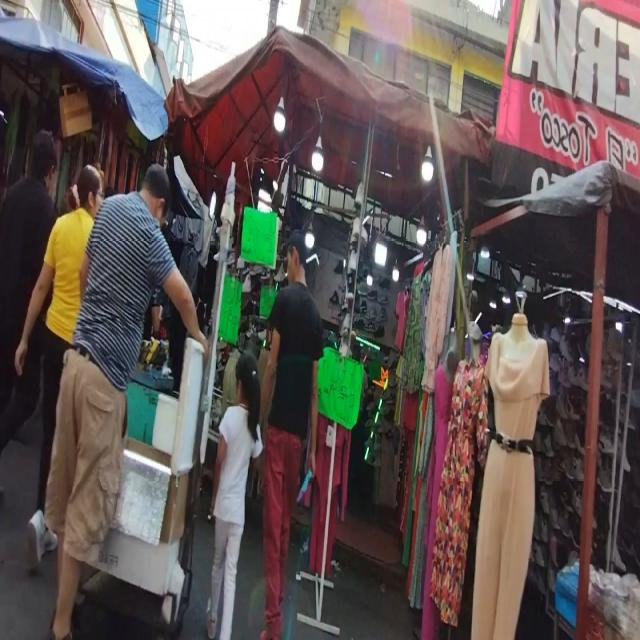adult: (48, 162, 210, 640), (15, 163, 105, 572), (260, 228, 320, 640), (0, 124, 56, 444), (208, 354, 262, 640)
